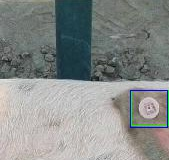text: (131, 90, 168, 125)
